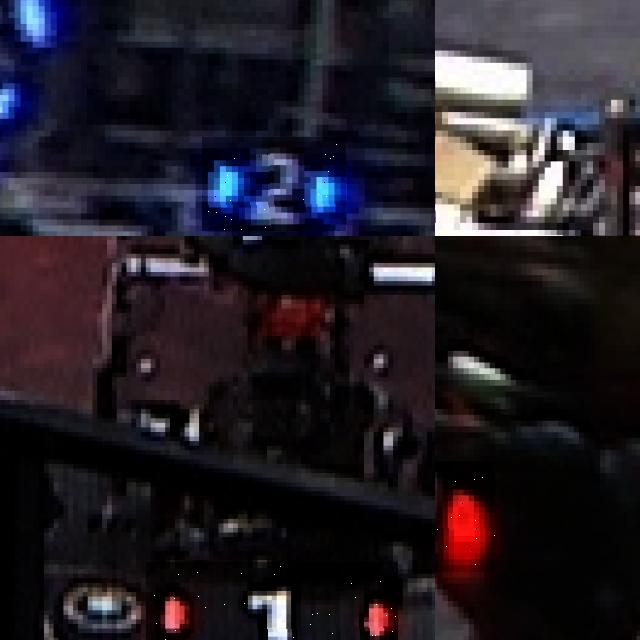B2: (202, 137, 346, 231)
R1: (146, 562, 398, 640)
R2: (435, 461, 495, 571)
